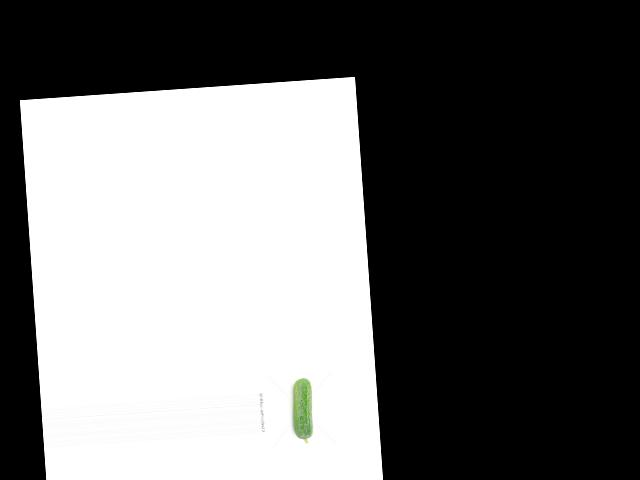cucumber: (290, 376, 314, 444)
